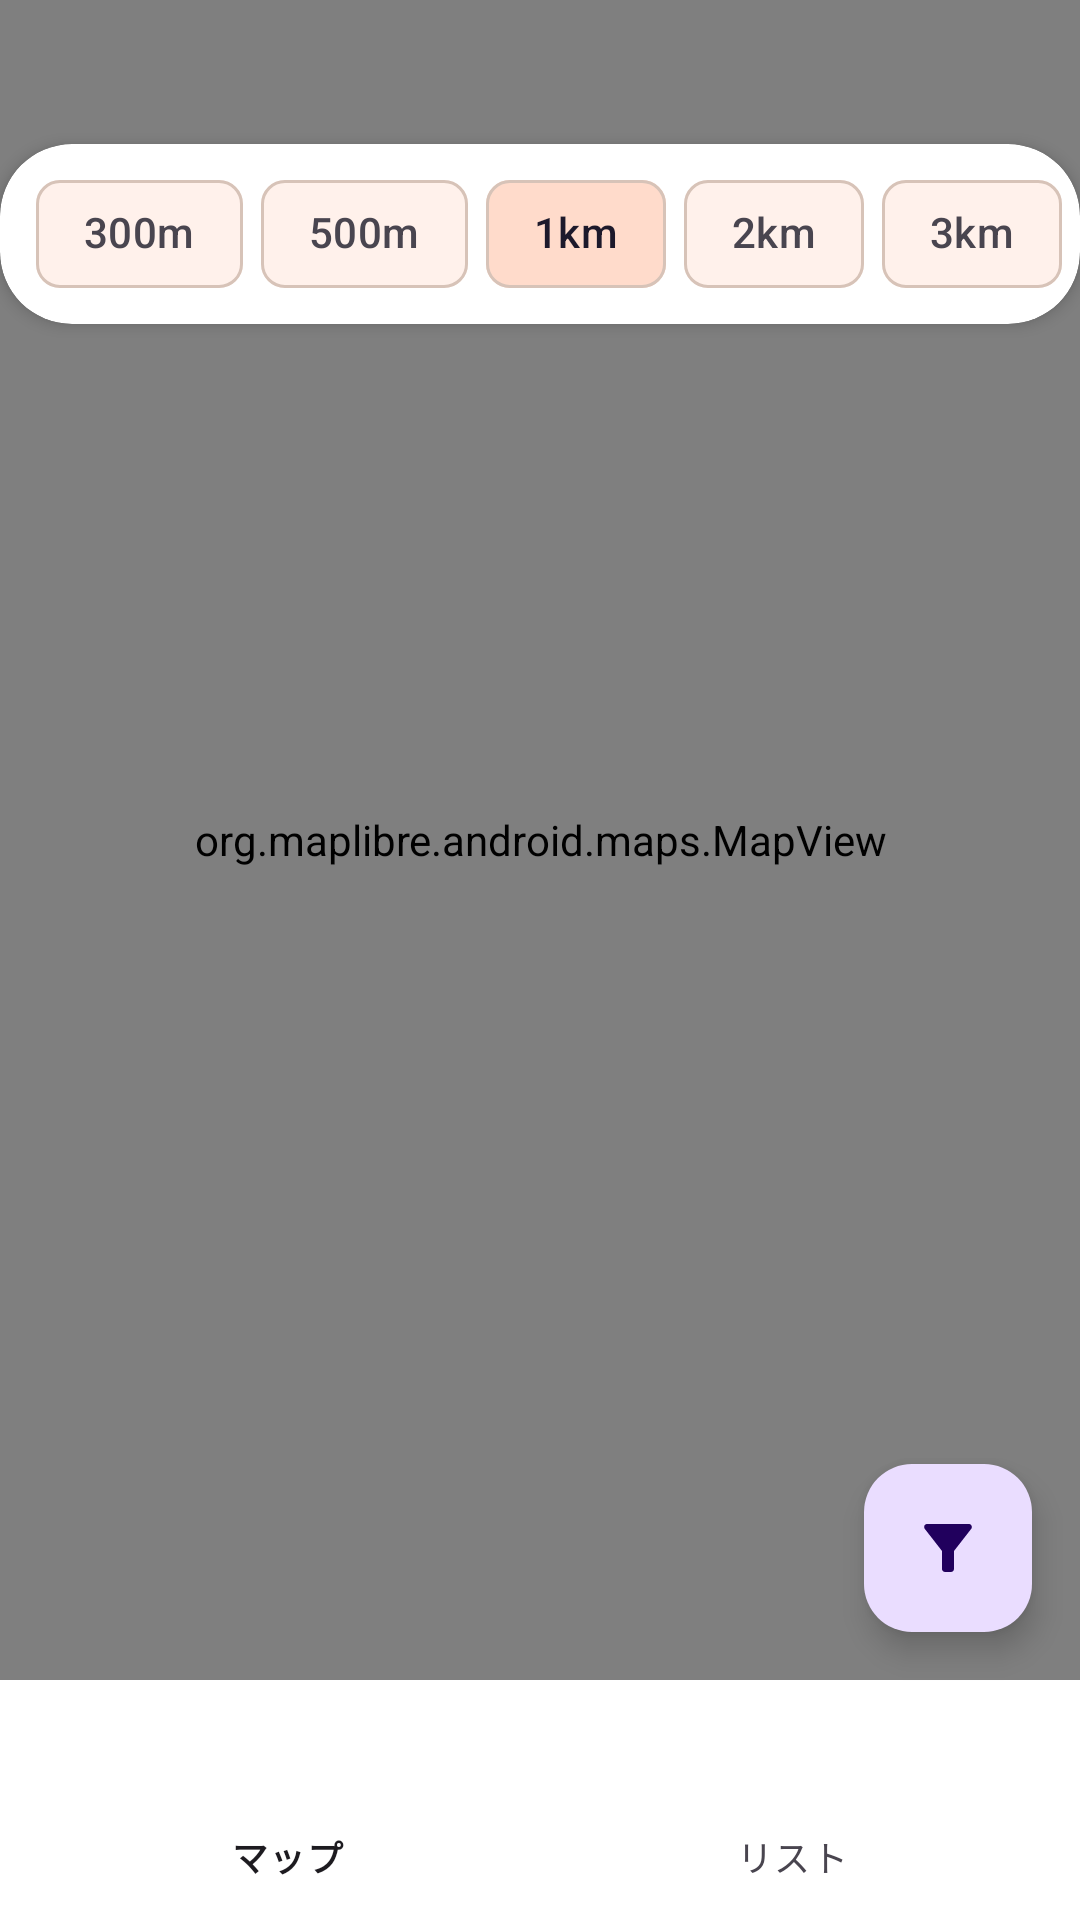

Point at icon controls on the screen. Image size 1080x1920, points as point (x, y).
絞り込み: point (948, 1548)
